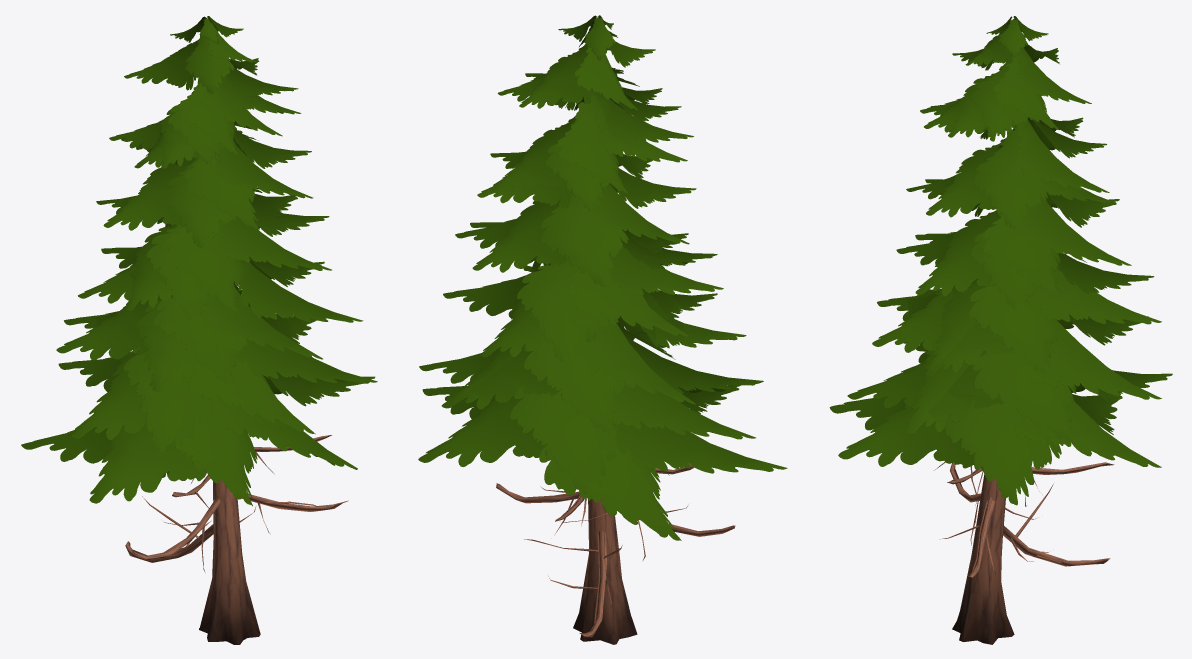
The model's file is Pine_4_s.gltf.
3 renders of one model, left to right at view 1: azimuth 30°, elevation 25°; view 2: azimuth 150°, elevation 25°; view 3: azimuth 270°, elevation 25°, orthographic. The views are drawn at different scales.
Visible parts, largest first — view 1: Pine_4; view 2: Pine_4; view 3: Pine_4.
Boxes of the visible parts, bbox=[...] form: Pine_4: bbox=[21, 16, 377, 644]; Pine_4: bbox=[418, 15, 787, 644]; Pine_4: bbox=[829, 16, 1172, 644].
Size of the model in its own units: 5.8 by 10.24 by 5.37.
Materials: 2 (2 with a texture image).
